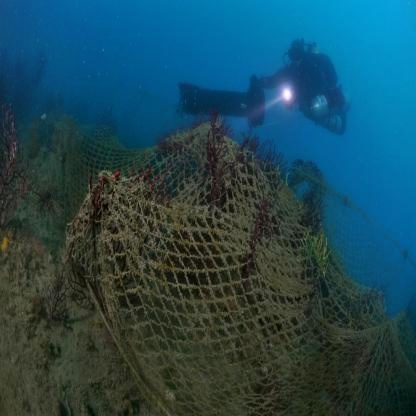net: (66, 126, 405, 416)
